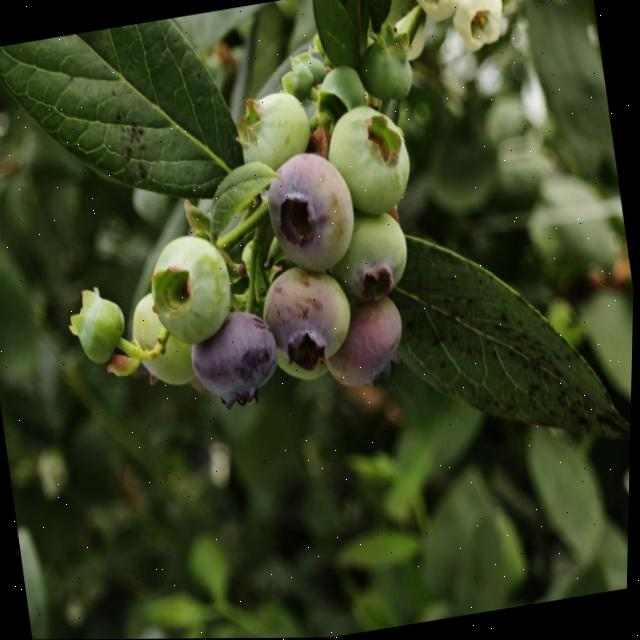RipeBlueBerry: (186, 306, 286, 409)
Semi-RipeBlueBerry: (259, 146, 363, 279), (263, 264, 361, 373), (320, 298, 414, 393)
UnripeBlueBerry: (321, 99, 419, 221), (143, 228, 241, 350), (332, 213, 416, 304), (233, 89, 316, 175), (65, 287, 132, 370)
